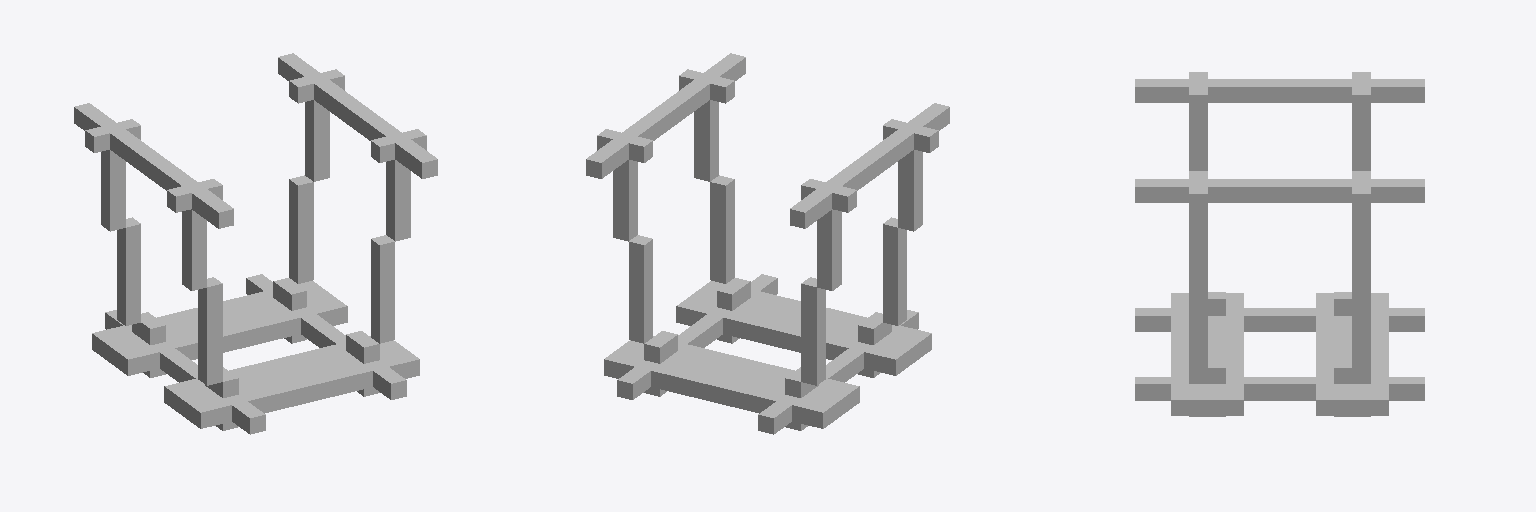
File: rope_bridges_planks_flat_l0.obj
3 views of the same model, side by side, from view 1: azimuth 30°, elevation 25°; view 2: azimuth 150°, elevation 25°; view 3: azimuth 270°, elevation 25° (orthographic).
Visible parts, largest first — view 1: node_0_0_0; view 2: node_0_0_0; view 3: node_0_0_0.
Boxes of the visible parts, <box> form: node_0_0_0: <box>74,53,437,434</box>; node_0_0_0: <box>586,53,949,434</box>; node_0_0_0: <box>1135,72,1424,416</box>.
Size of the model in its own units: 1 by 0.9375 by 1.